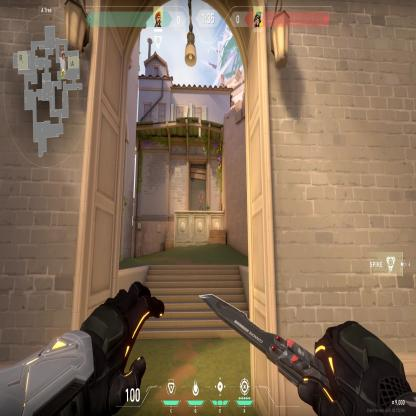enemy: (198, 189, 204, 212)
